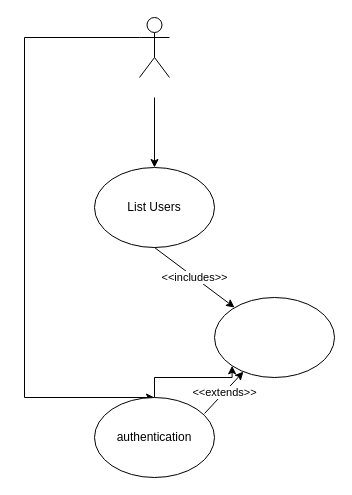
This 352x495 diagram has some shape labels left out. The shapes that lost their labels are listed below. From the top down, each one's box as (x1, y1, x2, y2) in pixels, then its label:
(138, 16, 170, 78): Actor
(214, 296, 334, 378): Pay Employee
